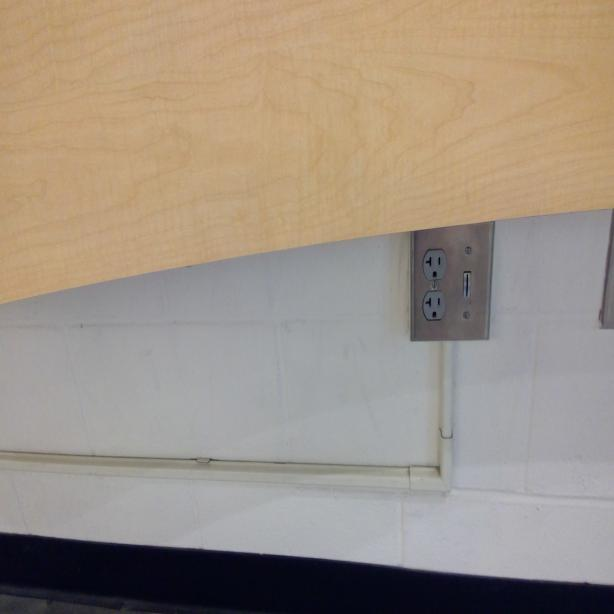typeb: (423, 250, 444, 282), (424, 294, 443, 320)
